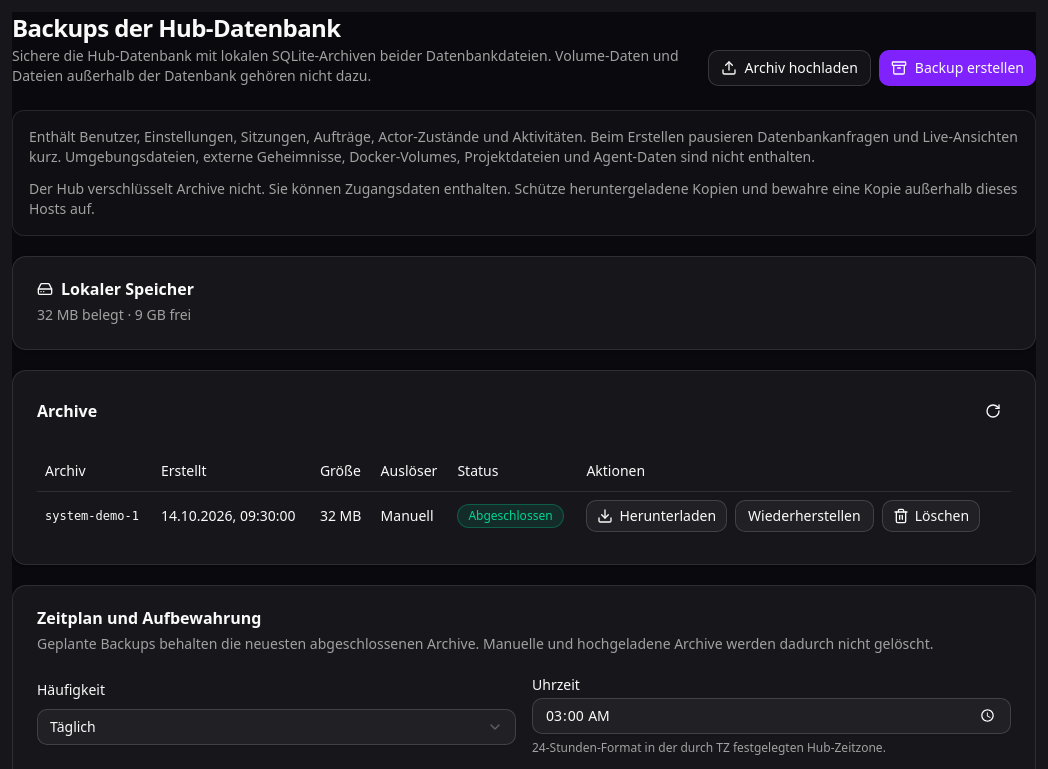
Hub database backup page › shows actionable text for backup.recovery_required
Check: the text "system-demo-1" is shown, box [37,491,153,540]
Click the button "Backup erstellen".
click(957, 68)  # box [879,50,1036,86]
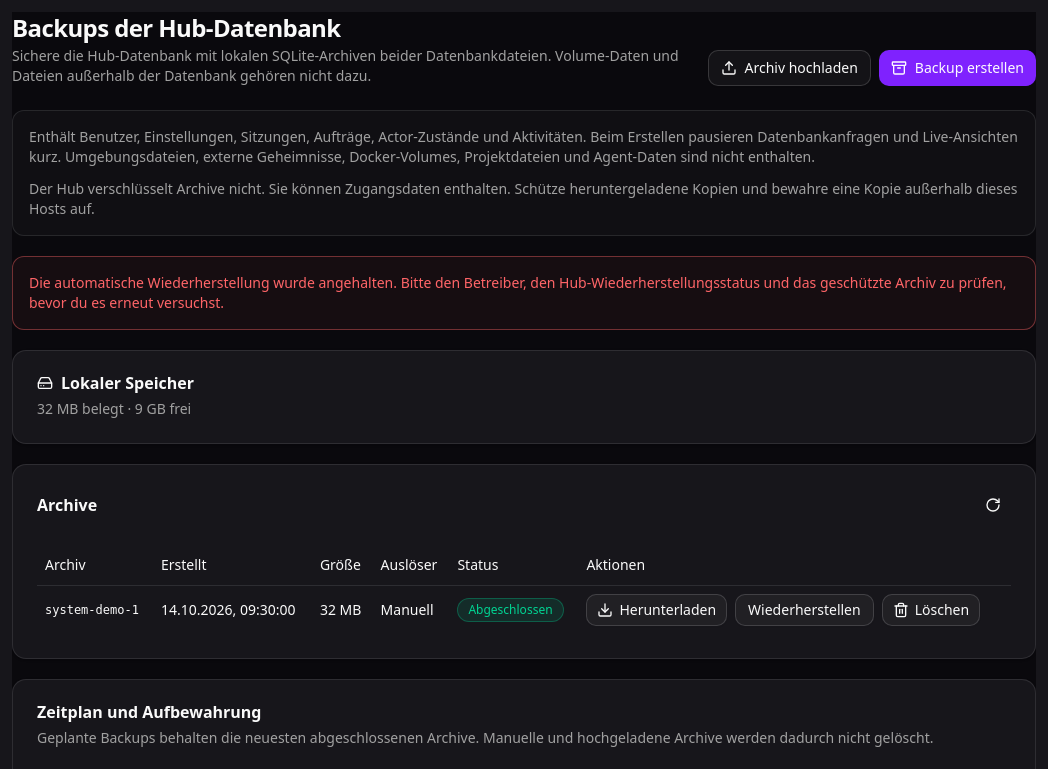
Check: the message shows "Die automatische Wiederherstellung wurde angehalten. Bitte den Betreiber, den Hub-Wiederherstellungsstatus und das geschützte Archiv zu prüfen, bevor du es erne", box [29,273,1007,312]
